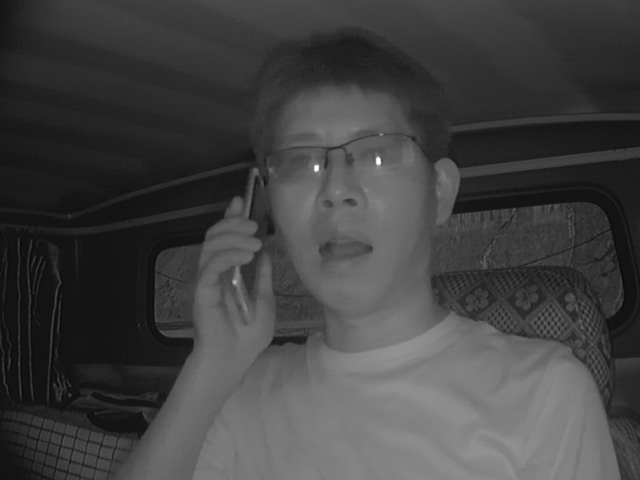hand: (191, 192, 283, 353)
